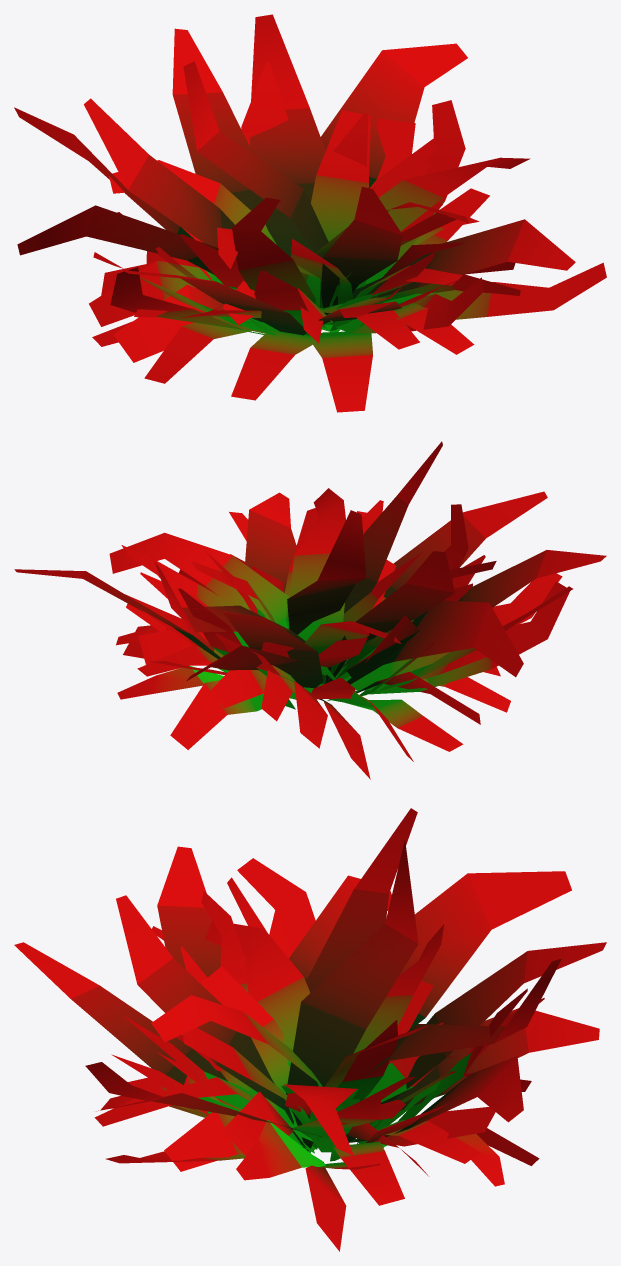
File: Boston Fern_LOD3_Var2_rhDrC.fbx
3 renders of one model, top to bottom at view 1: azimuth 30°, elevation 25°; view 2: azimuth 150°, elevation 25°; view 3: azimuth 270°, elevation 25°, orthographic. The views are drawn at different scales.
Visible parts, largest first — view 1: _ad24_Var2_LOD3; view 2: _ad24_Var2_LOD3; view 3: _ad24_Var2_LOD3.
Part boxes in pixels (bbox=[...]): _ad24_Var2_LOD3: bbox=[14, 14, 606, 412]; _ad24_Var2_LOD3: bbox=[14, 441, 606, 779]; _ad24_Var2_LOD3: bbox=[14, 808, 606, 1251].
Size of the model in its own units: 15.2 by 7.43 by 14.84.
